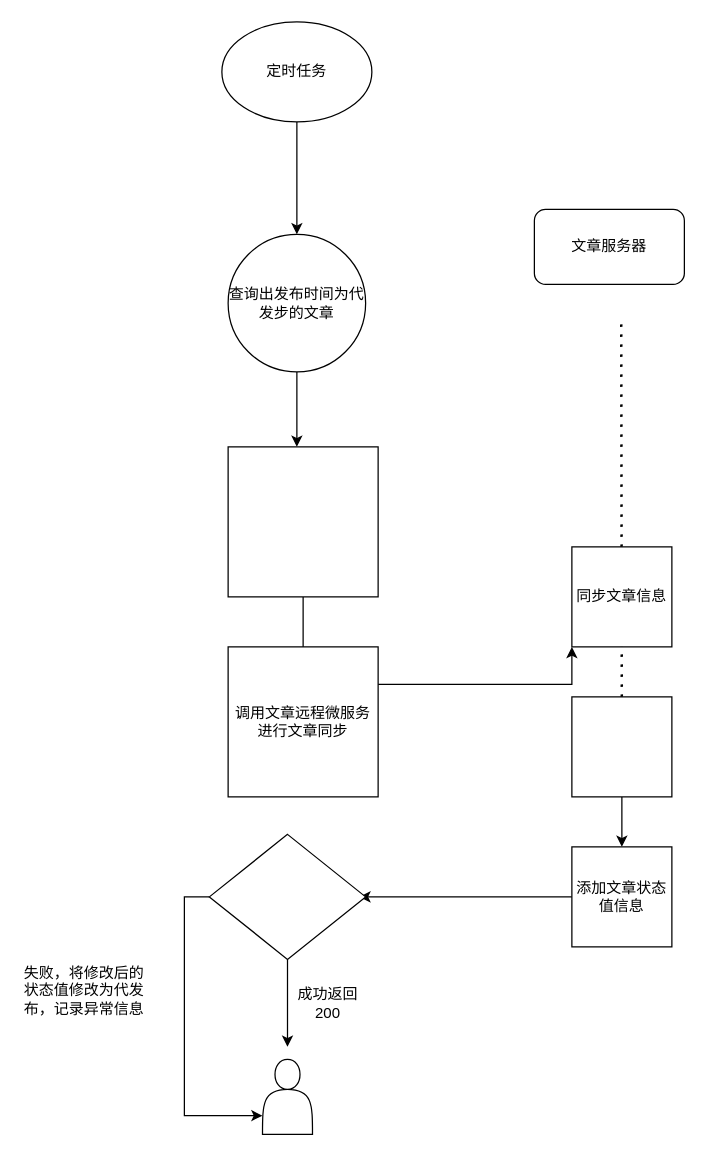
Some shapes in this 706 by 1156 pixel diagram are drawn without their labels. Here are the shapes that lost their labels. From the top down, the centre of each, then its label:
the point at 302,521: 更新文章状态值为代发布
the point at 621,746: 添加文章文本内容
the point at 287,896: 鉴定鉴定文章是否同步完成
